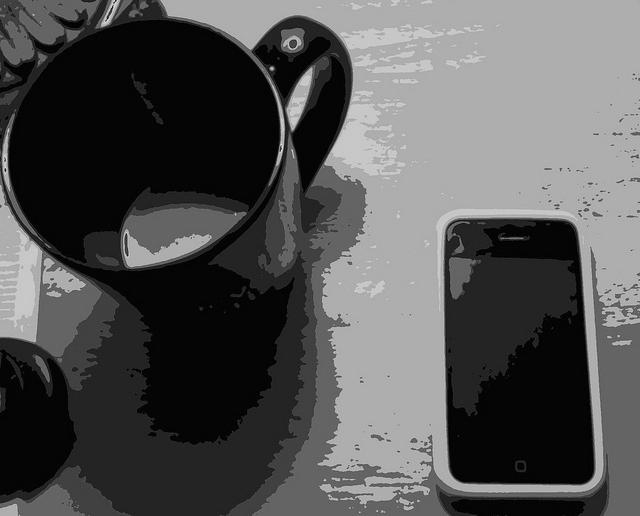cup: (2, 15, 356, 346)
